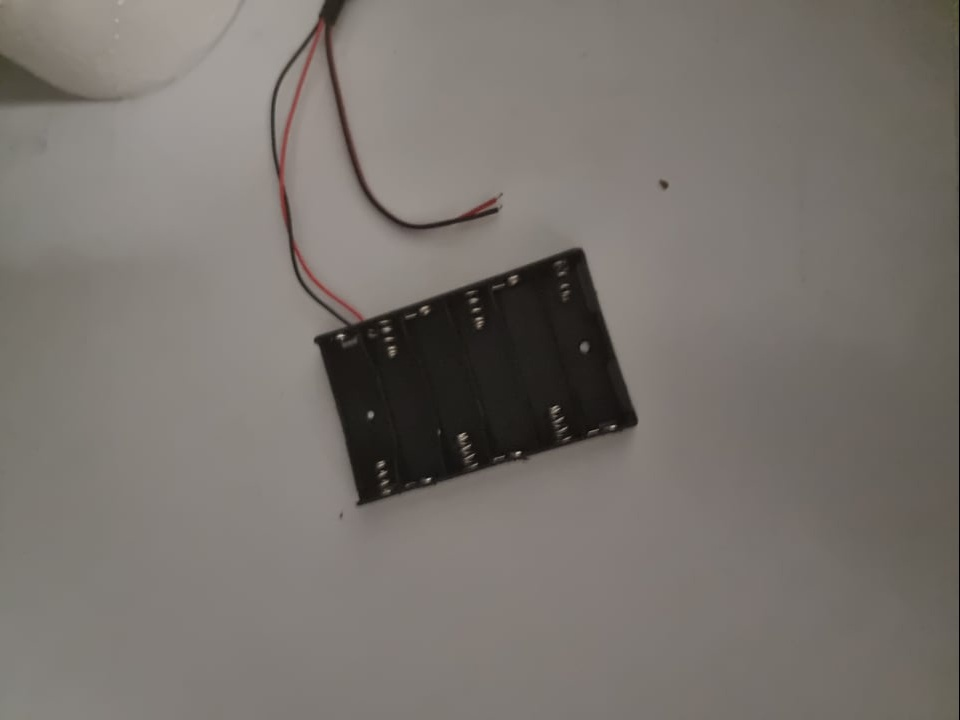BATTERY BOX: (310, 249, 648, 514)
